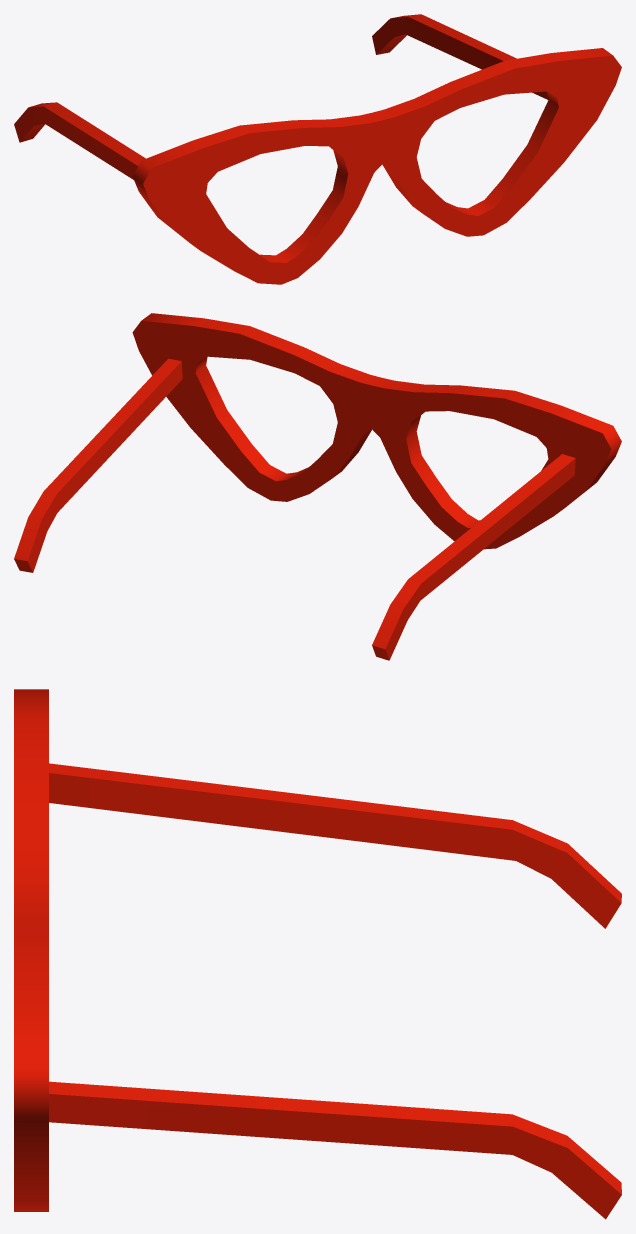
File: Glasses_10.fbx
3 renders of one model, top to bottom at view 1: azimuth 30°, elevation 25°; view 2: azimuth 150°, elevation 25°; view 3: azimuth 270°, elevation 25°, orthographic. The views are drawn at different scales.
Parts seen in each view (by area): view 1: Glasses_10.c, Glasses_stick_60, Glasses_stick_62; view 2: Glasses_10.c, Glasses_stick_60, Glasses_stick_62; view 3: Glasses_stick_62, Glasses_stick_60, Glasses_10.c.
Boxes of the visible parts, left/top/right/bottom form: Glasses_10.c: left=132, top=48, right=621, bottom=284; Glasses_stick_60: left=14, top=102, right=145, bottom=179; Glasses_stick_62: left=372, top=14, right=548, bottom=99; Glasses_10.c: left=132, top=313, right=621, bottom=549; Glasses_stick_60: left=372, top=454, right=575, bottom=660; Glasses_stick_62: left=14, top=358, right=182, bottom=572; Glasses_stick_62: left=49, top=1081, right=621, bottom=1219; Glasses_stick_60: left=49, top=763, right=621, bottom=928; Glasses_10.c: left=14, top=689, right=48, bottom=1211.
Size of the model in its own units: 0.7916 by 0.2514 by 0.5234.
